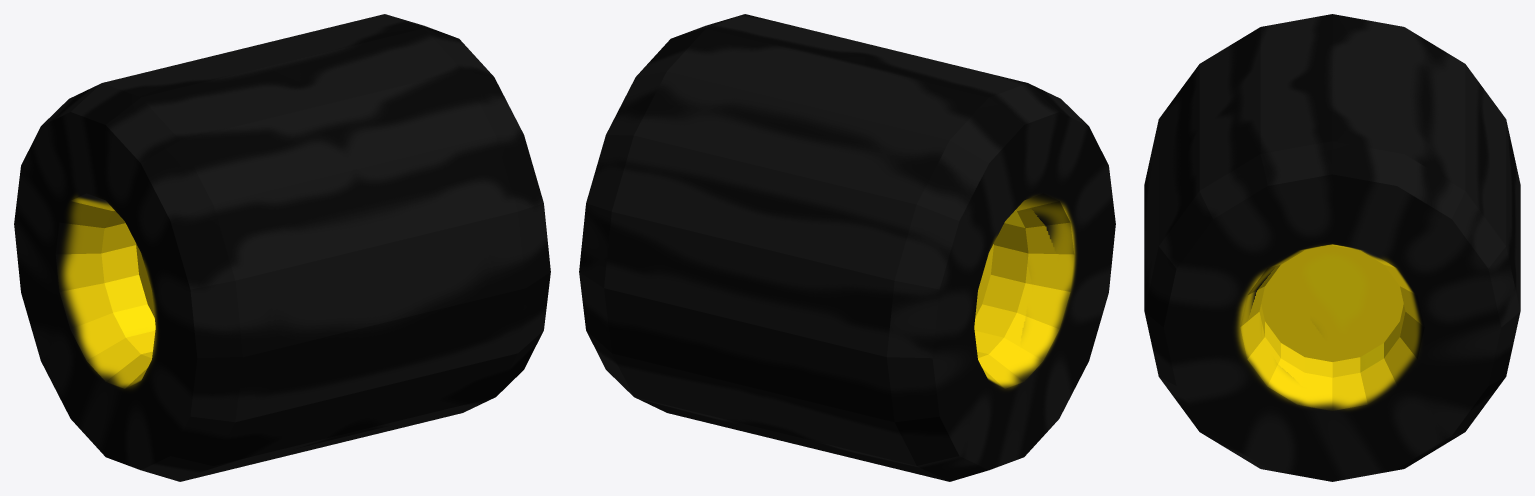
File: wheel.obj
3 renders of one model, left to right at view 1: azimuth 30°, elevation 25°; view 2: azimuth 150°, elevation 25°; view 3: azimuth 270°, elevation 25°, orthographic. The views are drawn at different scales.
Size of the model in its own units: 1 by 1 by 1.
